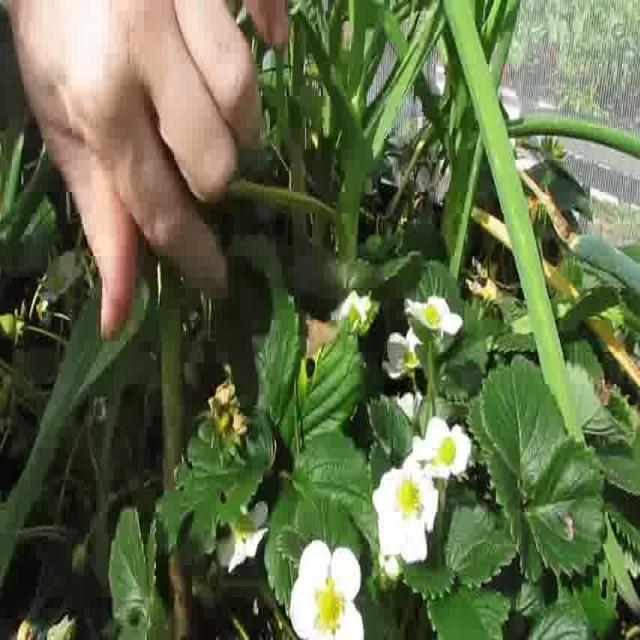Fruta sana: (0, 310, 17, 340), (234, 510, 253, 535)
